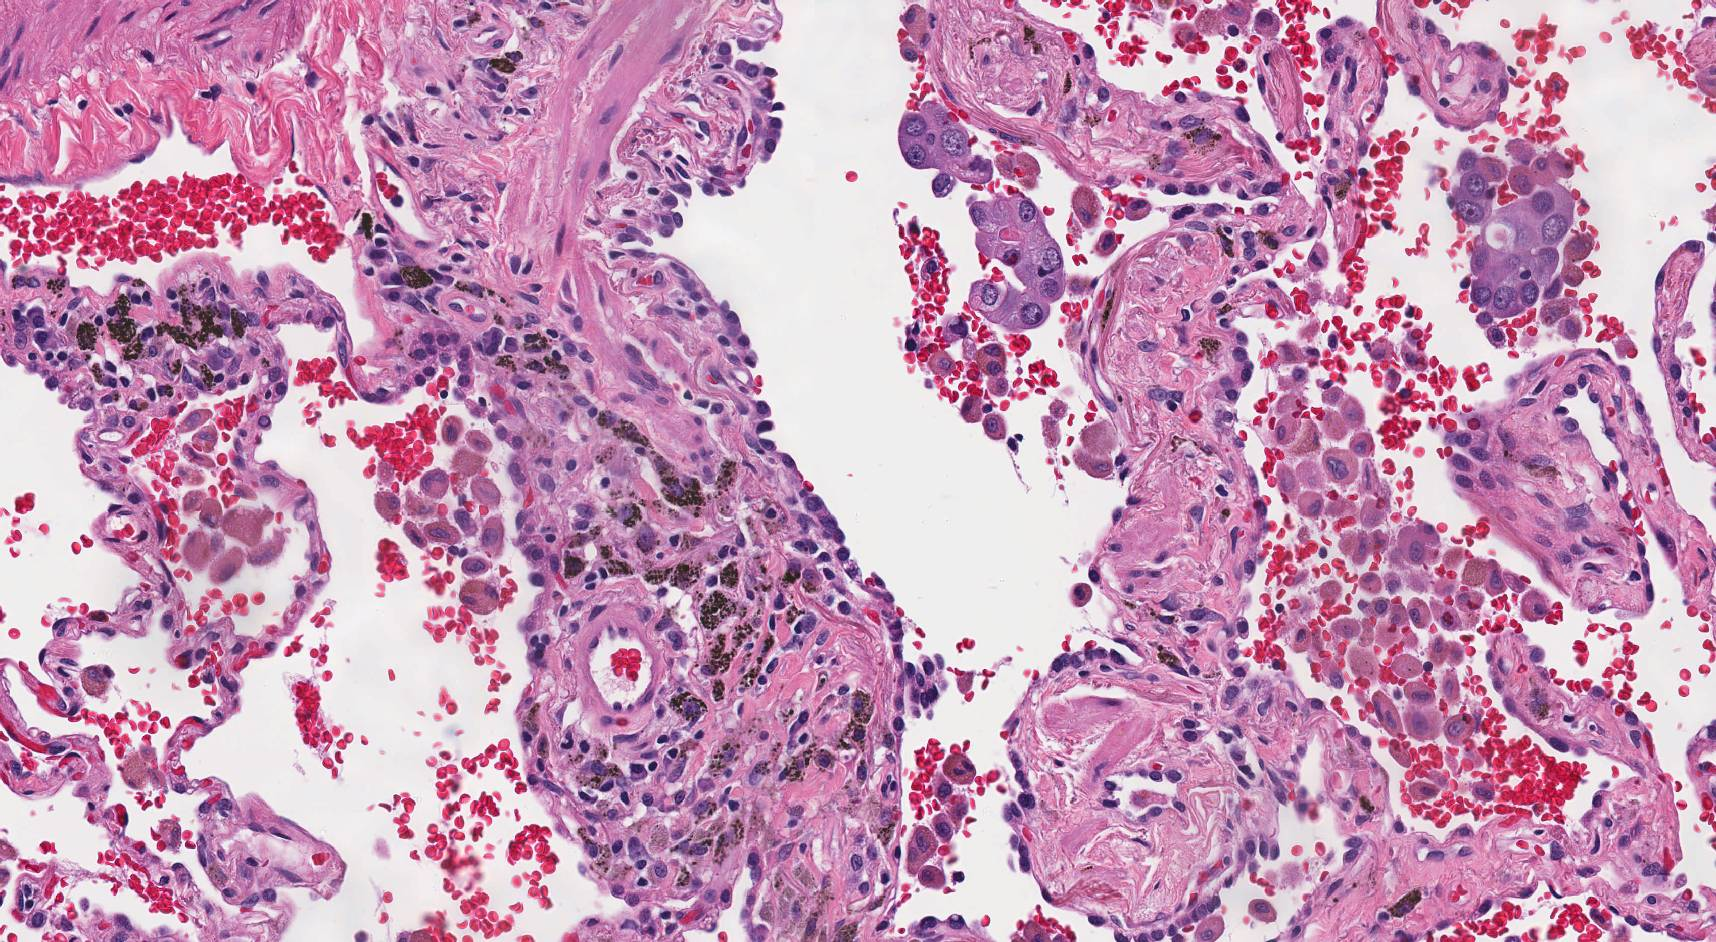stas: (1449, 149, 1578, 317), (966, 193, 1065, 331), (896, 102, 994, 198)
